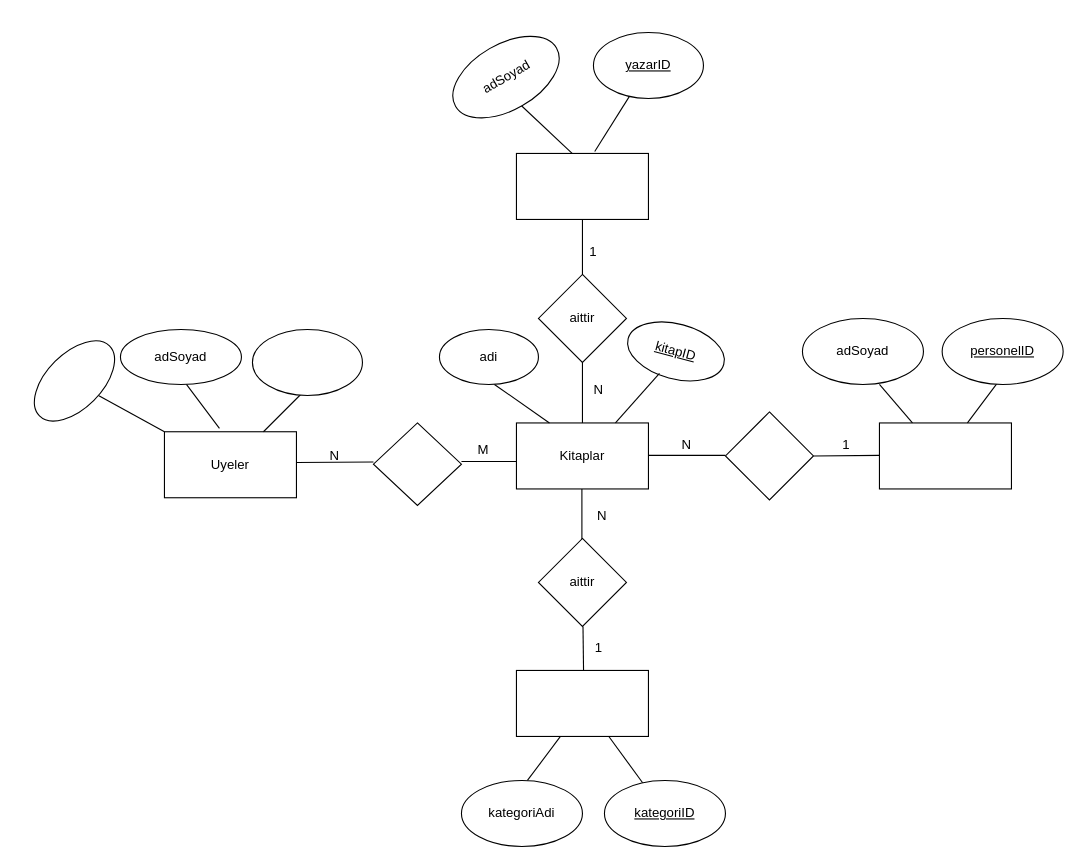
Image size: 1082x866. Some labels were removed from this diagram. Here are the shapes that lost their labels. From the top down, the box of each, then its label:
(515, 152, 648, 219): Yazar
(19, 325, 129, 436): Telefon
(251, 328, 362, 395): uyelerID
(372, 422, 461, 505): ödünç alır
(724, 411, 813, 500): ödünç verir
(878, 422, 1011, 489): Personel
(515, 669, 648, 736): Kategori
